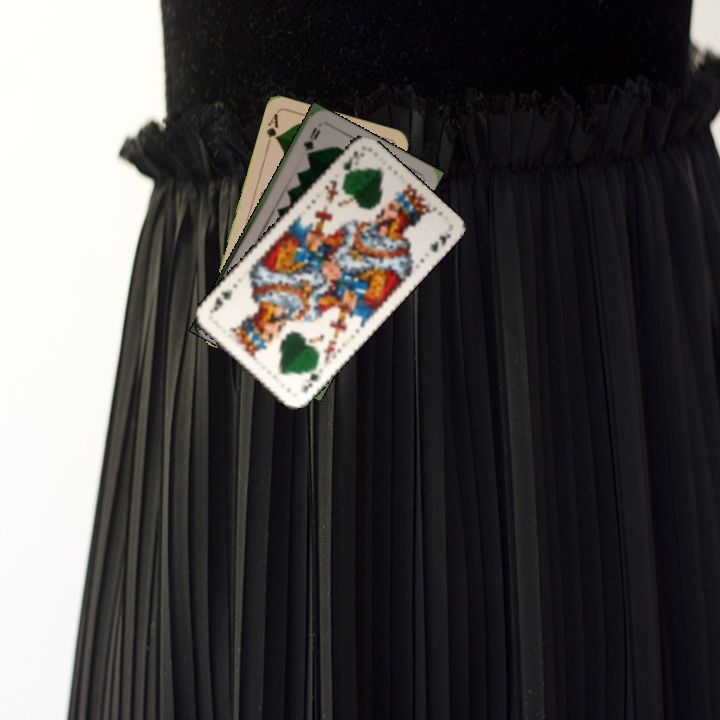G9: (299, 123, 323, 159)
GA: (262, 109, 281, 149)
GK: (338, 146, 367, 181), (299, 362, 321, 396)
